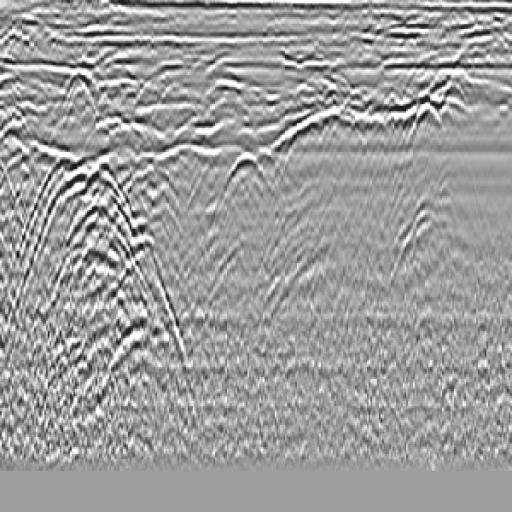metalic: (207, 132, 302, 309)
